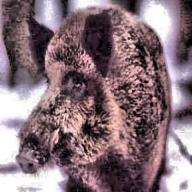boar: (14, 0, 180, 192)
